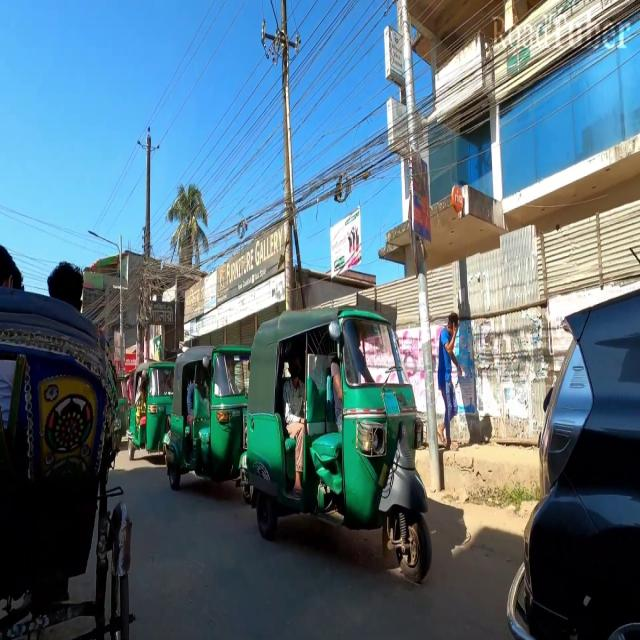black: (510, 287, 640, 639)
